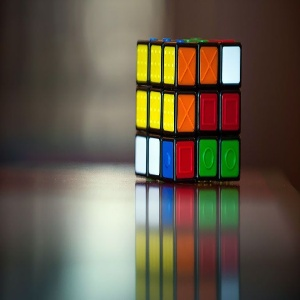cube: (136, 39, 241, 185)
